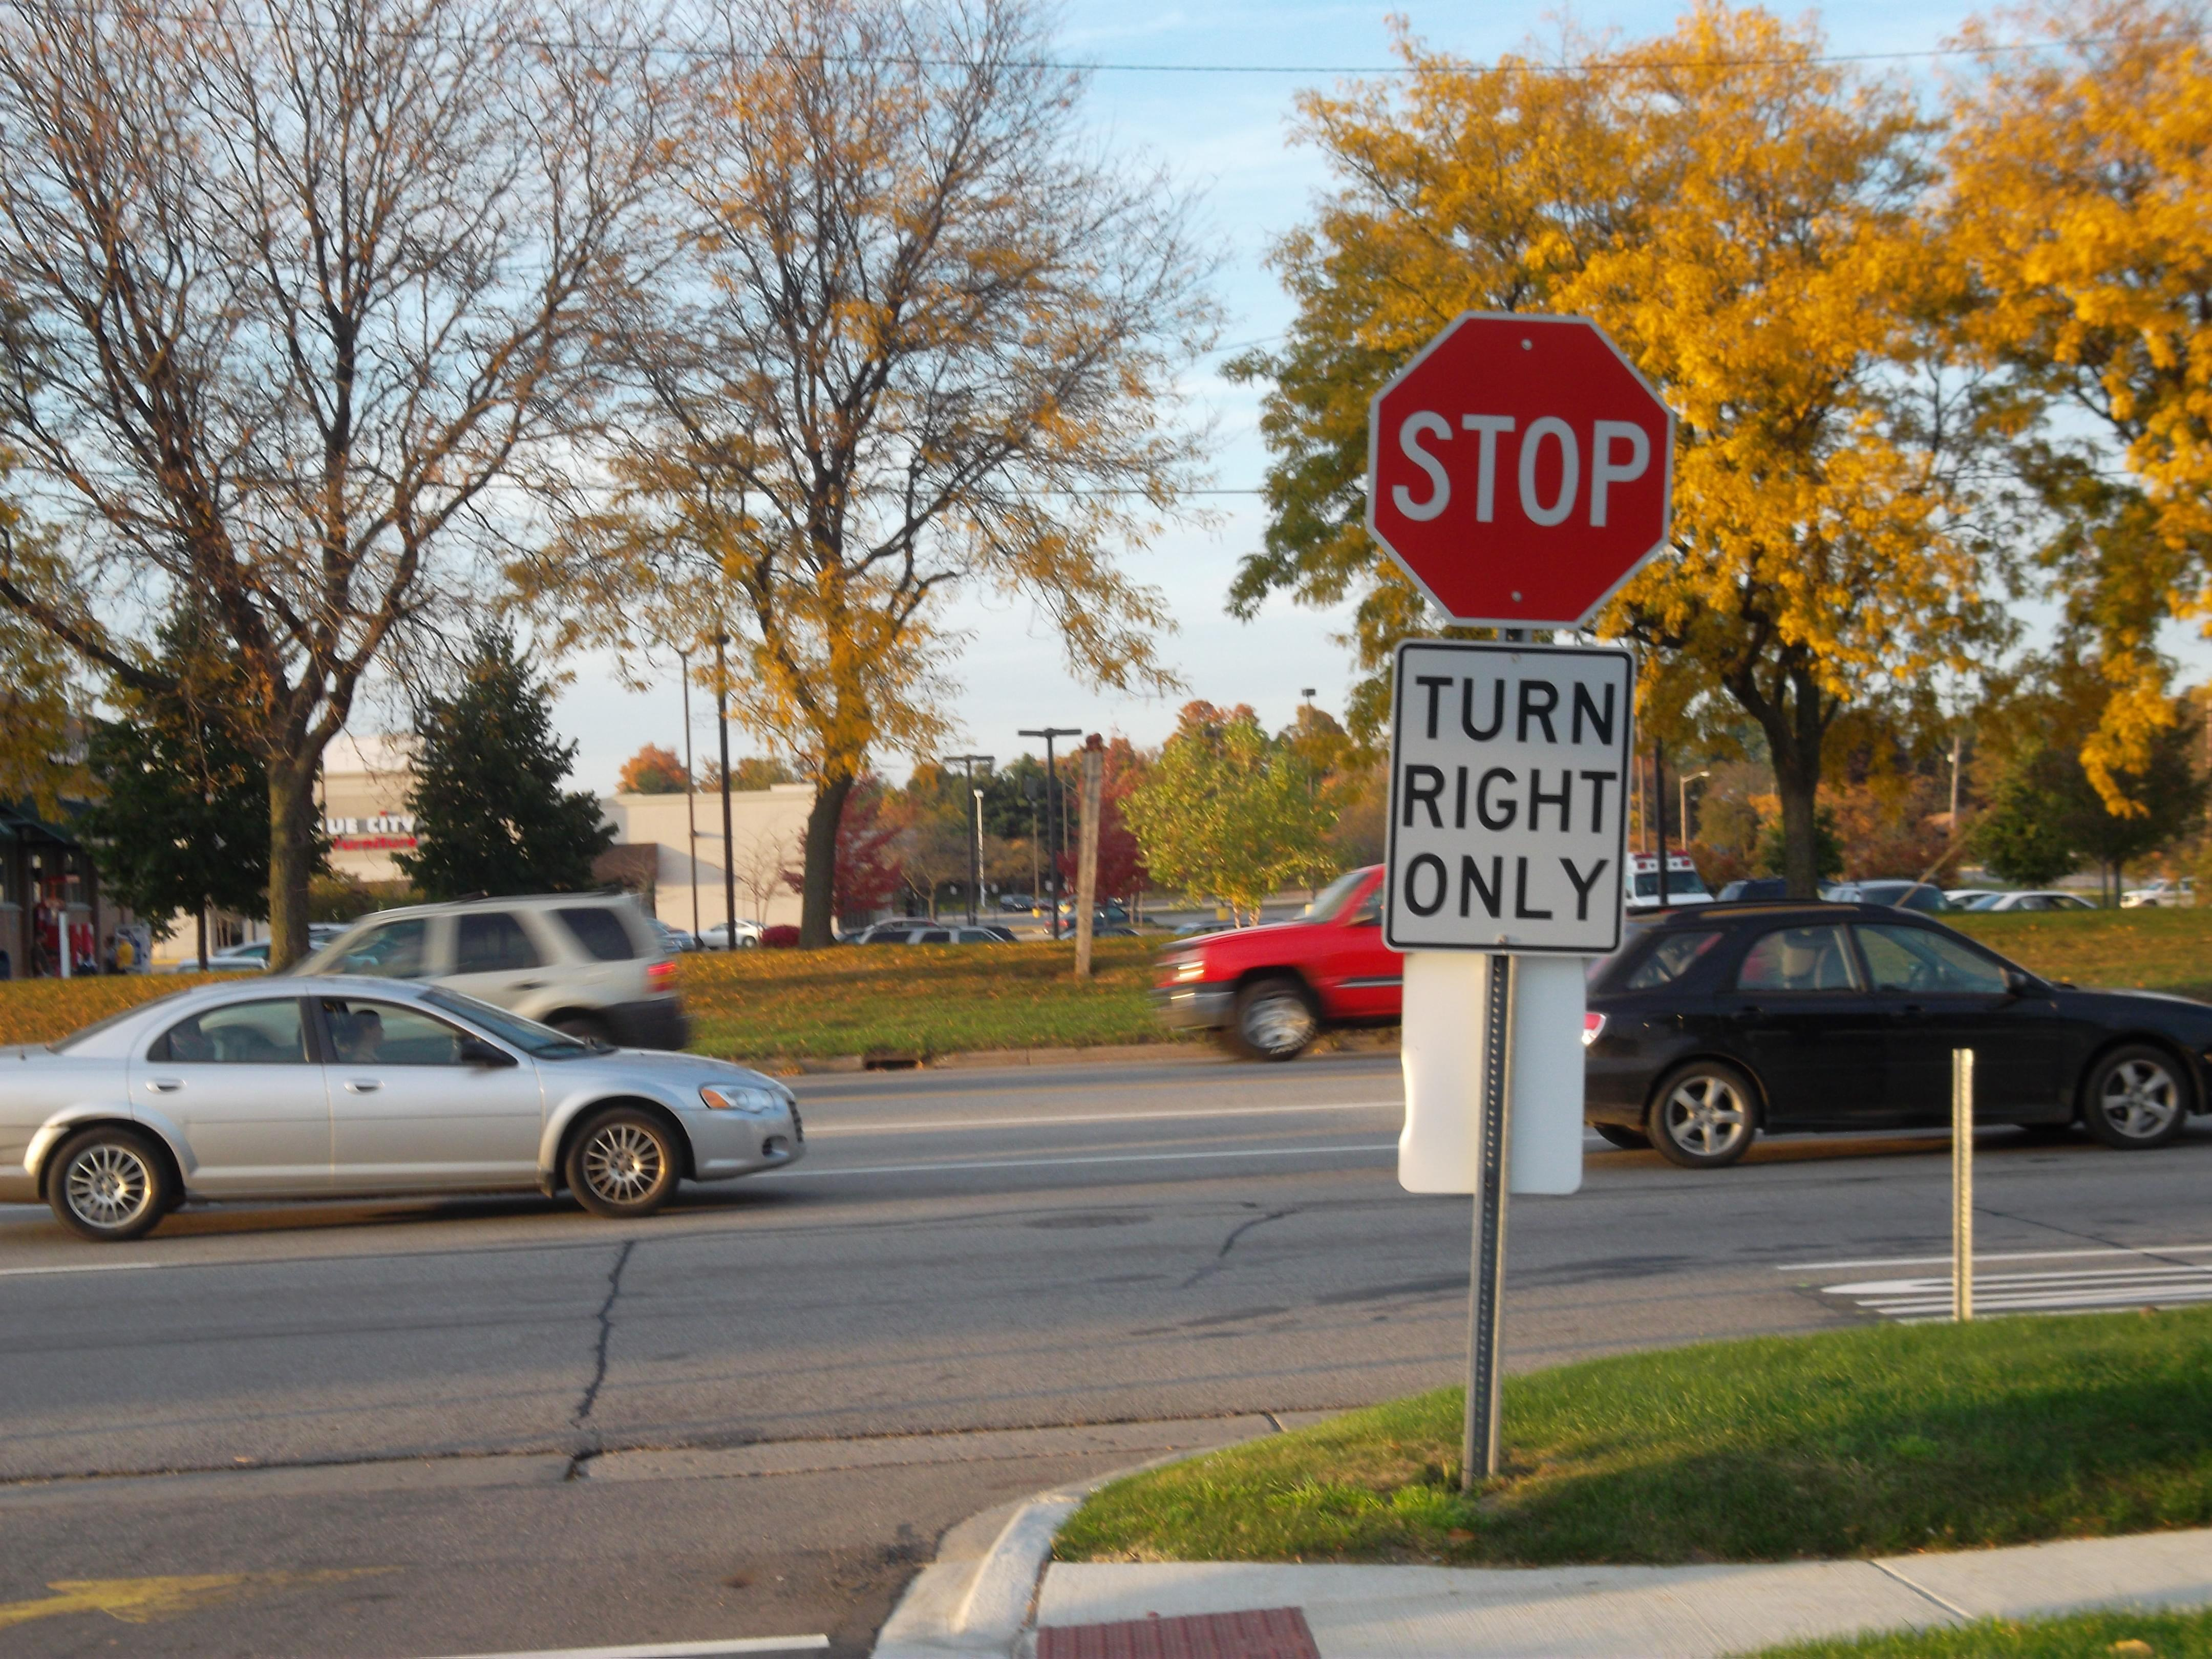regulatory: (1369, 640, 1656, 971)
stop: (1357, 284, 1695, 640)
